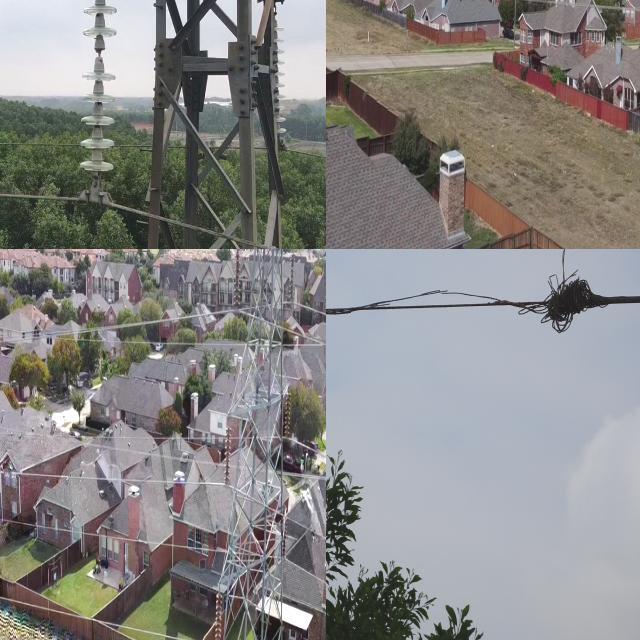杆塔: (96, 0, 295, 249), (216, 249, 290, 640)
正常电缆: (0, 501, 212, 565), (0, 450, 215, 505), (0, 584, 206, 640), (0, 186, 91, 206)
正常绝缘子: (71, 0, 127, 179), (282, 382, 296, 456), (231, 249, 245, 315), (221, 421, 234, 491), (212, 583, 225, 640), (279, 510, 291, 565), (286, 249, 297, 308)
电缆破损: (326, 276, 610, 335)
绝缘子破损: (93, 43, 106, 67)
